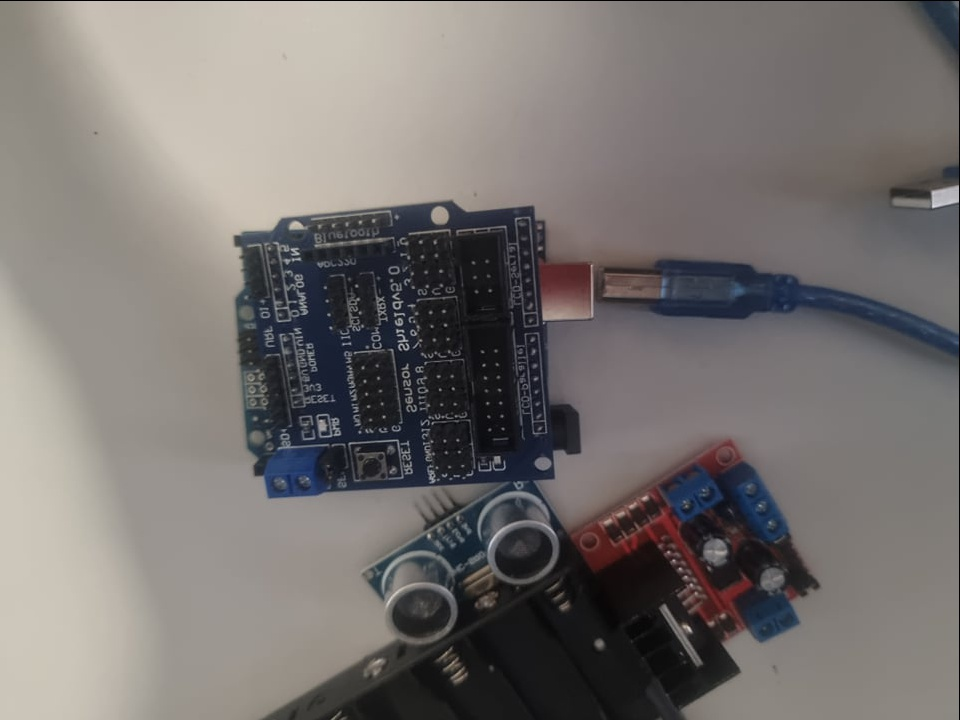5V EXPANSION: (243, 202, 535, 507)
BATTERY BOX: (275, 570, 680, 717)
MOTOR: (574, 438, 844, 707)
SENSOR: (370, 478, 559, 647)
